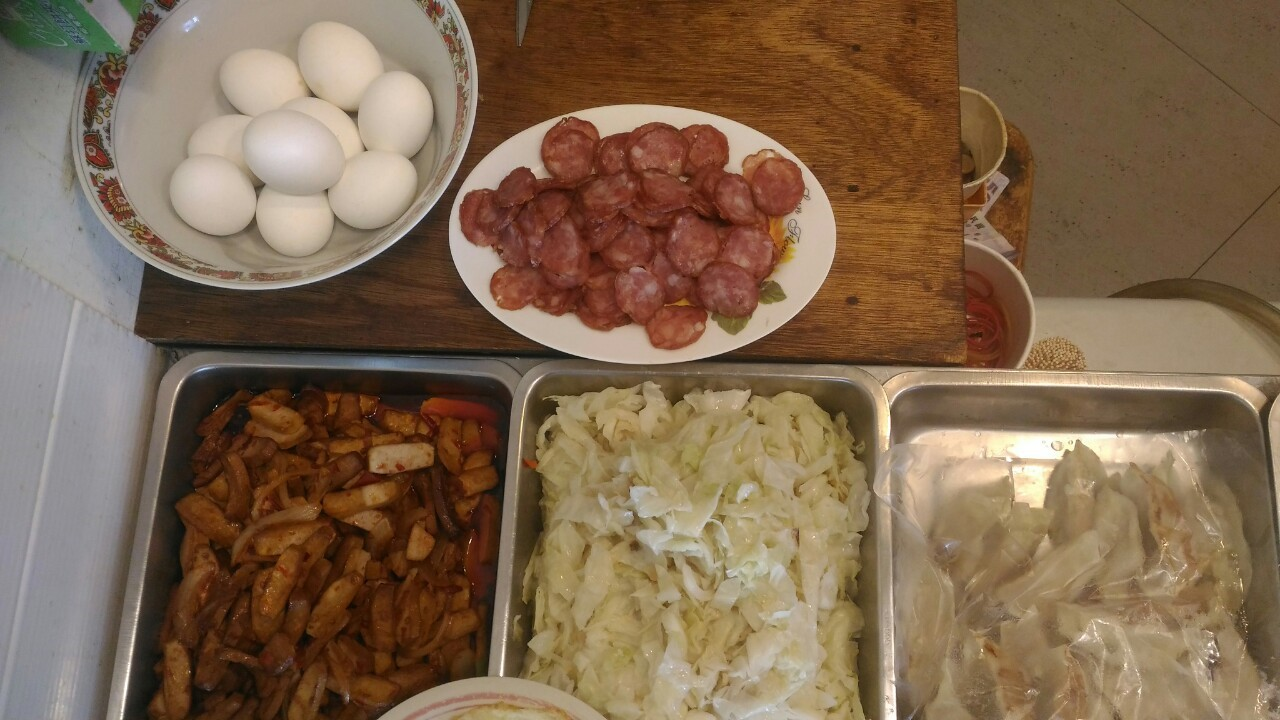chinese_cabbage: (547, 395, 858, 716)
chinese_sausage: (461, 115, 805, 351)
